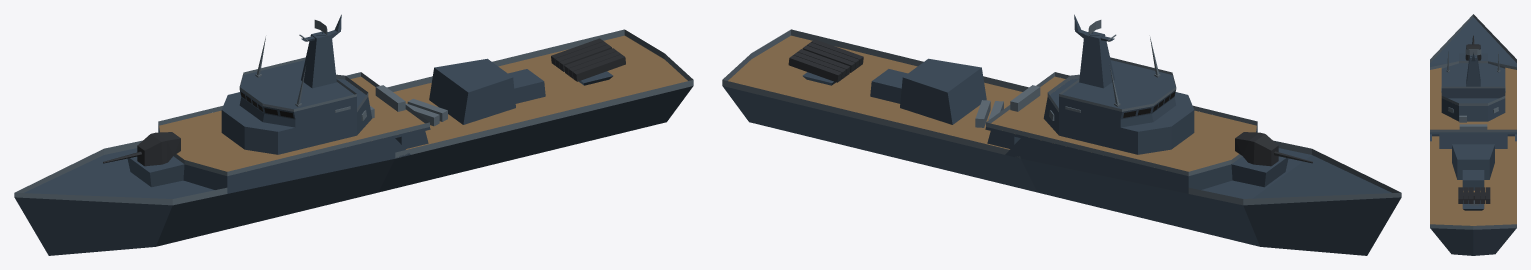
File: ShipCorvette1.fbx
3 renders of one model, left to right at view 1: azimuth 30°, elevation 25°; view 2: azimuth 150°, elevation 25°; view 3: azimuth 270°, elevation 25°, orthographic. The views are drawn at different scales.
Visible parts, largest first — view 1: Ship_platform, Base, barrier, Cube.003, Antena, Cube, Box.001; view 2: Ship_platform, Base, barrier, Cube.003, Antena, Cube, Box.001; view 3: Ship_platform, Base, barrier, Cube.003, Antena, Box.001, Cube, RLS, Antena_1.
Boxes of the visible parts, x1=… form: Ship_platform: x1=14, y1=35, x2=693, y2=255; Base: x1=221, y1=60, x2=372, y2=154; barrier: x1=14, y1=29, x2=693, y2=205; Cube.003: x1=551, y1=38, x2=625, y2=81; Antena: x1=301, y1=14, x2=341, y2=88; Cube: x1=137, y1=132, x2=180, y2=166; Box.001: x1=370, y1=85, x2=447, y2=126; Ship_platform: x1=722, y1=35, x2=1401, y2=255; Base: x1=1043, y1=60, x2=1194, y2=154; barrier: x1=722, y1=29, x2=1401, y2=205; Cube.003: x1=788, y1=39, x2=863, y2=82; Antena: x1=1074, y1=14, x2=1114, y2=88; Cube: x1=1235, y1=132, x2=1278, y2=166; Box.001: x1=975, y1=85, x2=1040, y2=127; Ship_platform: x1=1430, y1=17, x2=1516, y2=255; Base: x1=1441, y1=63, x2=1505, y2=121; barrier: x1=1430, y1=14, x2=1516, y2=229; Cube.003: x1=1458, y1=187, x2=1490, y2=203; Antena: x1=1466, y1=52, x2=1480, y2=86; Box.001: x1=1459, y1=115, x2=1487, y2=129; Cube: x1=1465, y1=44, x2=1481, y2=60; RLS: x1=1465, y1=49, x2=1481, y2=55; Antena_1: x1=1446, y1=51, x2=1500, y2=72.
Bounding box in the file's own units: 2182 × 547 × 400.
